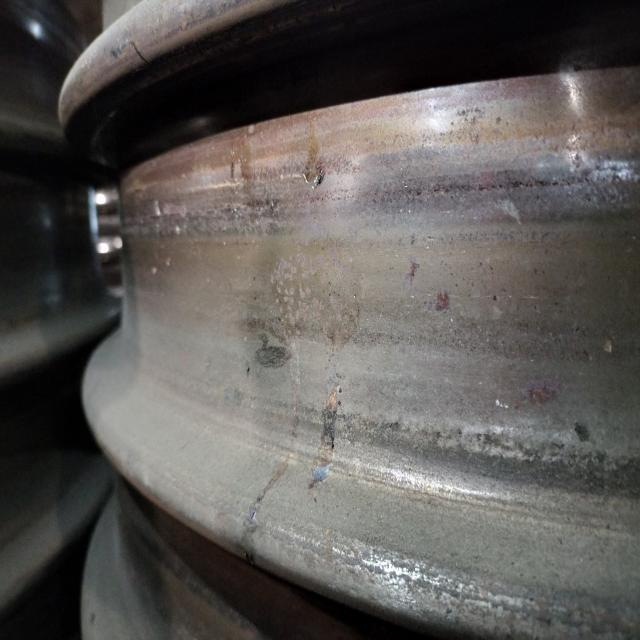Rollerpile: (309, 384, 339, 492), (302, 113, 328, 190), (256, 334, 294, 370)
